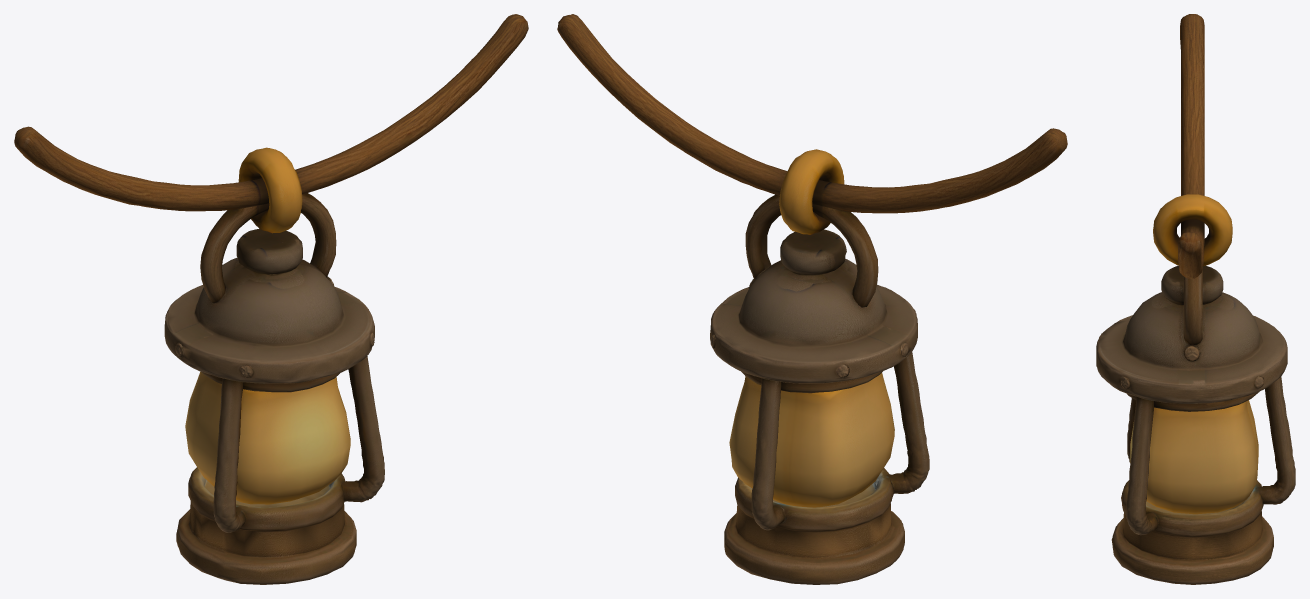
File: mem_ac_lantern.fbx
3 renders of one model, left to right at view 1: azimuth 30°, elevation 25°; view 2: azimuth 150°, elevation 25°; view 3: azimuth 270°, elevation 25°, orthographic. The views are drawn at different scales.
Visible parts, largest first — view 1: tripo_node_399394b1; view 2: tripo_node_399394b1; view 3: tripo_node_399394b1.
Boxes of the visible parts, <box> form: tripo_node_399394b1: <box>14,14,528,584</box>; tripo_node_399394b1: <box>557,14,1067,584</box>; tripo_node_399394b1: <box>1096,14,1295,584</box>.
Size of the model in its own units: 0.998 by 0.9004 by 0.377.
